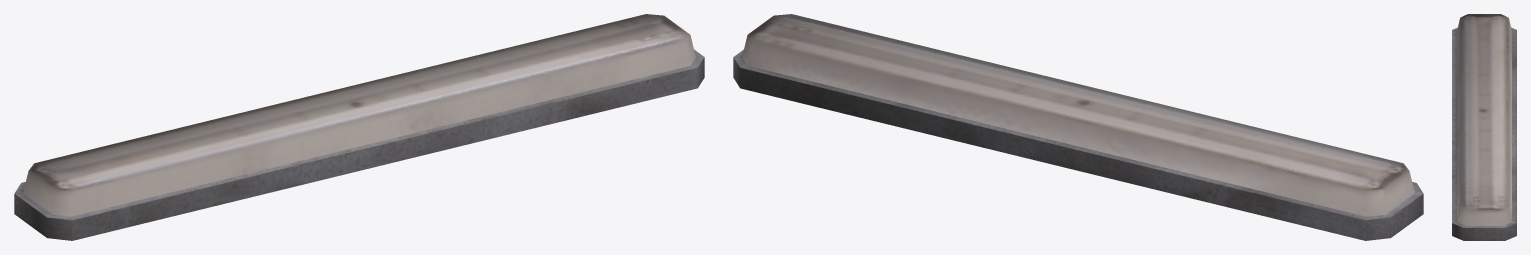
File: Lamp_01.dae
3 renders of one model, left to right at view 1: azimuth 30°, elevation 25°; view 2: azimuth 150°, elevation 25°; view 3: azimuth 270°, elevation 25°, orthographic. The views are drawn at different scales.
Parts seen in each view (by area): view 1: Lamp_01; view 2: Lamp_01; view 3: Lamp_01.
Boxes of the visible parts, x1,y1,x2,y2 form: Lamp_01: (14,14,704,240); Lamp_01: (733,14,1423,240); Lamp_01: (1452,14,1516,240).
Size of the model in its own units: 1.16 by 0.1571 by 0.0732.
1 material, 1 textured.
